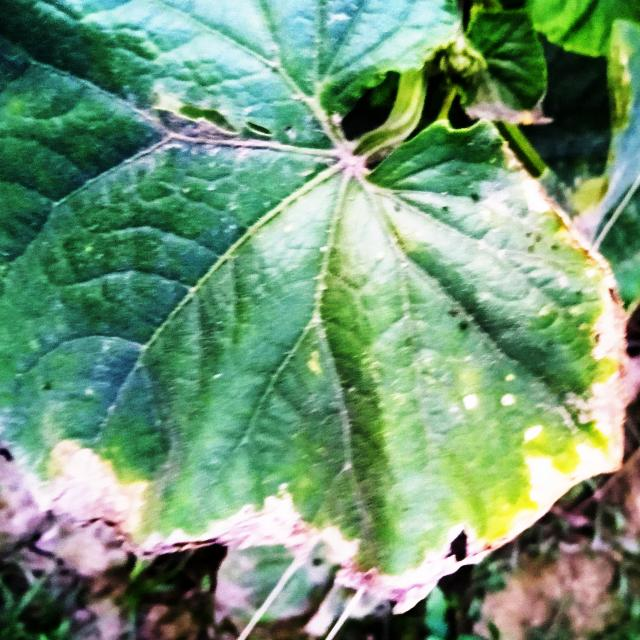Gummy-Stem-Blight: (10, 169, 635, 620)
